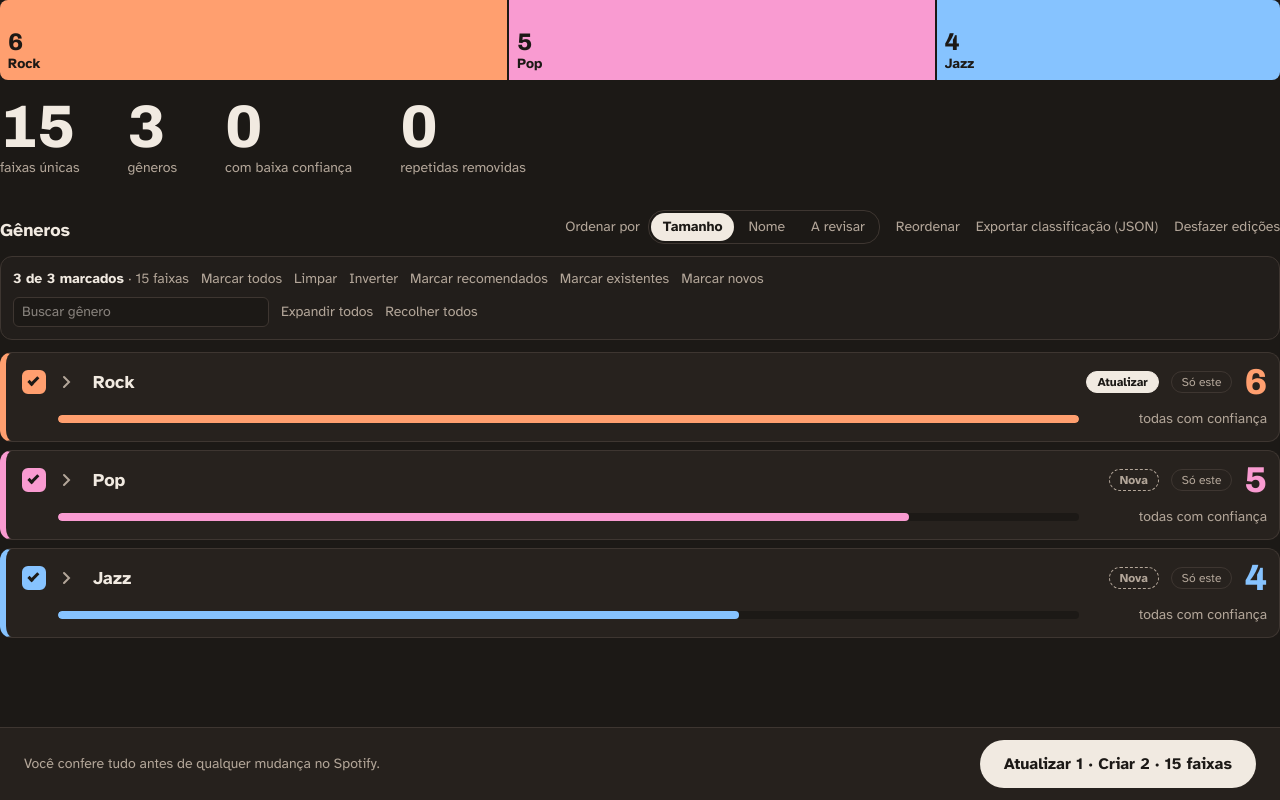
Test case: existing genre playlists › lists updates and creations separately in the confirmation
Click the button "Atualizar 1 · Criar 2 · 15 faixas": [1118, 764] box top-left (980, 740), bottom-right (1256, 788)
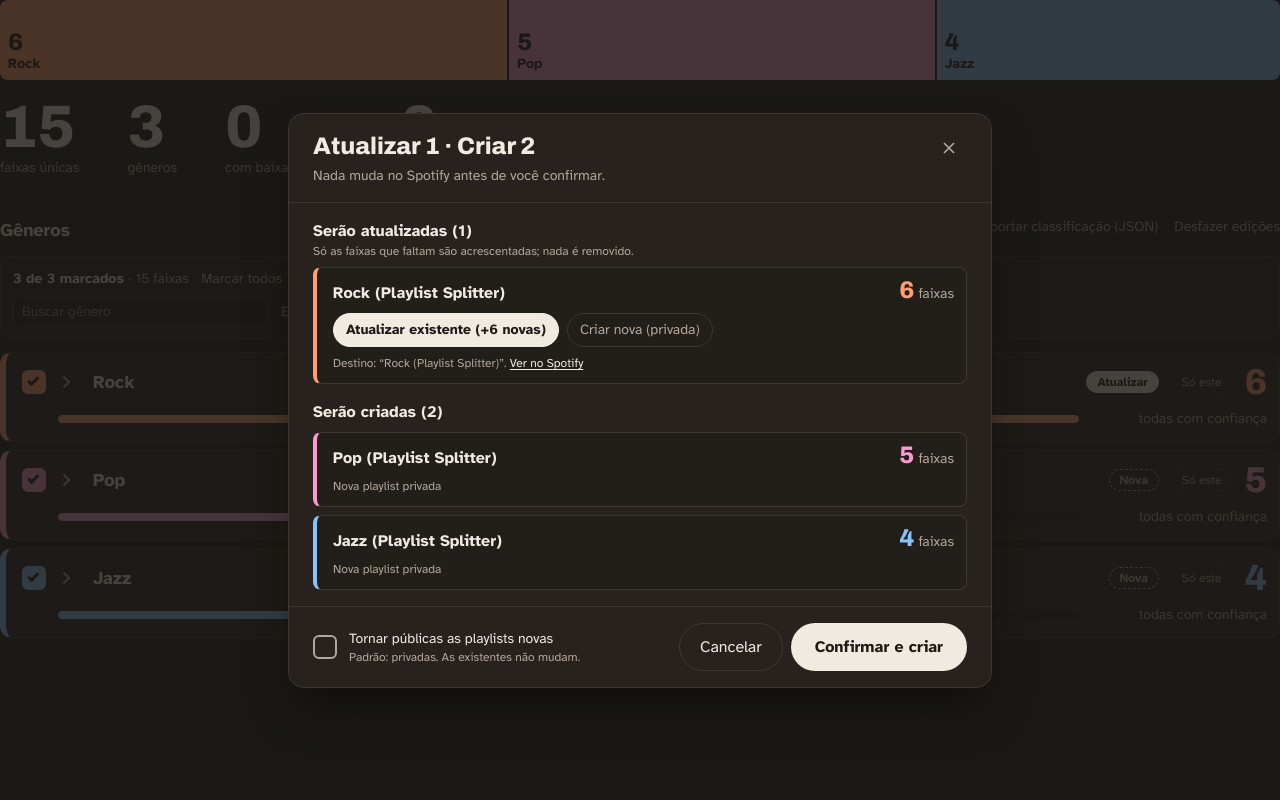
Now the text "Rock (Playlist Splitter)" is shown, box top-left (333, 280), bottom-right (505, 304)
Now the text "Destino: “Rock (Playlist Splitter)”. Ver no Spotify" is shown, box top-left (333, 356), bottom-right (583, 370)
Now the text "Pop (Playlist Splitter)" is shown, box top-left (333, 446), bottom-right (497, 470)
